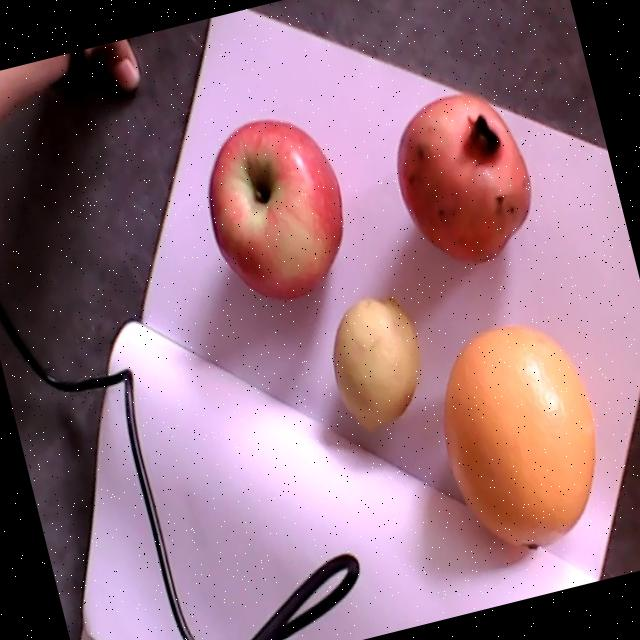apple: (209, 118, 342, 301)
lemon: (333, 294, 416, 429)
orange: (442, 321, 596, 549)
pomegranate: (396, 93, 532, 264)
